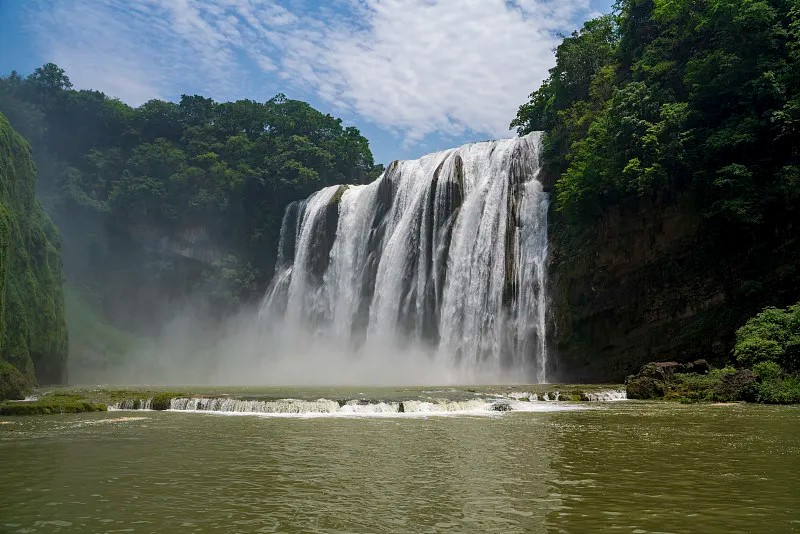Huangguoshu: (269, 132, 547, 384)
